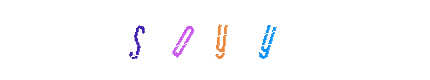Q: (174, 0, 254, 80)
S: (139, 0, 219, 80)
Y: (175, 0, 255, 80), (181, 0, 261, 80)
